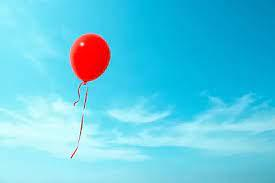red: (70, 33, 111, 84)
